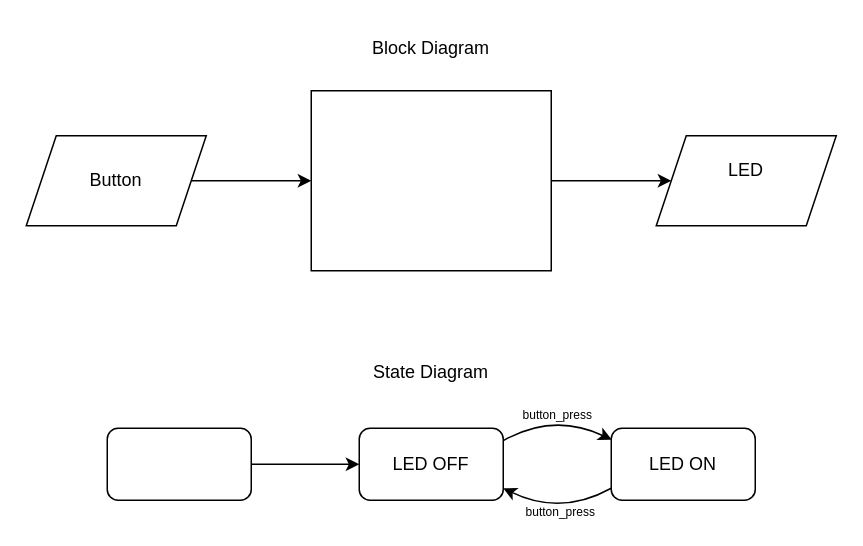
This 863x546 diagram has some shape labels left out. The shapes that lost their labels are listed below. From the top down, each one's centre as x and y in pixels, then its label:
point 430,180: ESP32-S3
point 178,463: START
